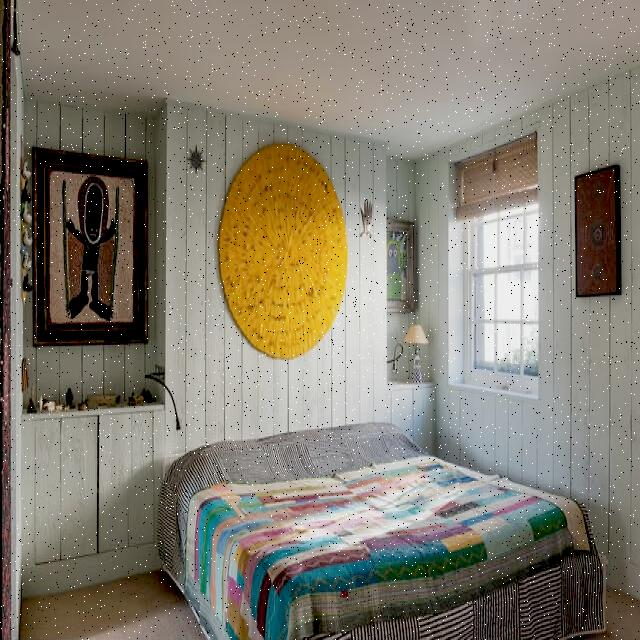bed: (164, 415, 601, 640)
